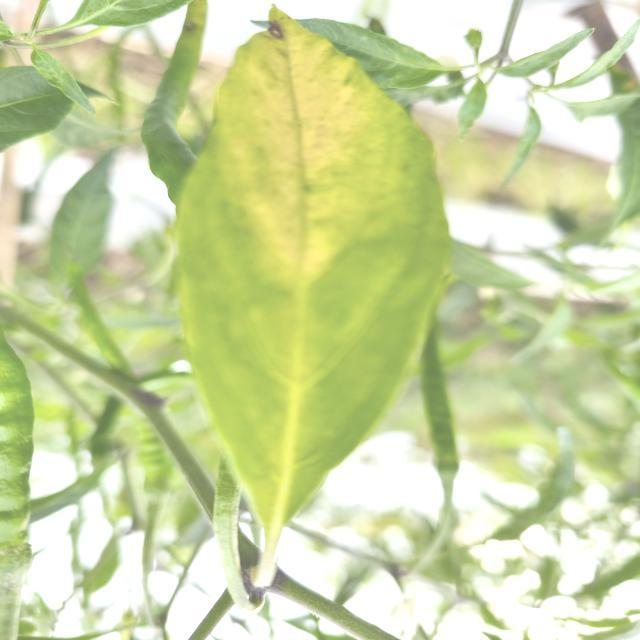Virus Kuning: (173, 8, 456, 531)
